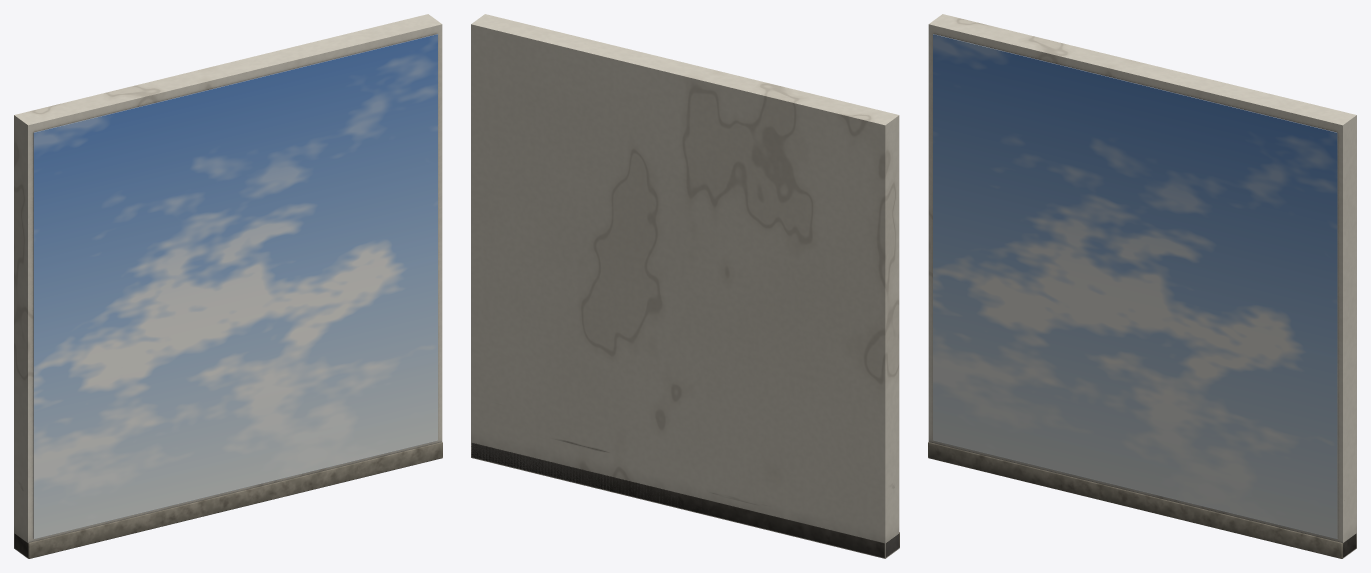
File: wall_sky.fbx
3 renders of one model, left to right at view 1: azimuth 30°, elevation 25°; view 2: azimuth 150°, elevation 25°; view 3: azimuth 330°, elevation 25°, orthographic.
Visible parts, largest first — view 1: Screen, Body; view 2: Body; view 3: Screen, Body.
Boxes of the visible parts, bbox=[...] form: Screen: bbox=[33, 34, 437, 538]; Body: bbox=[14, 14, 442, 558]; Body: bbox=[471, 14, 899, 558]; Screen: bbox=[933, 34, 1337, 538]; Body: bbox=[928, 14, 1356, 558].
Size of the model in its own units: 16 by 16 by 1.
Materials: 2 (2 with a texture image).
